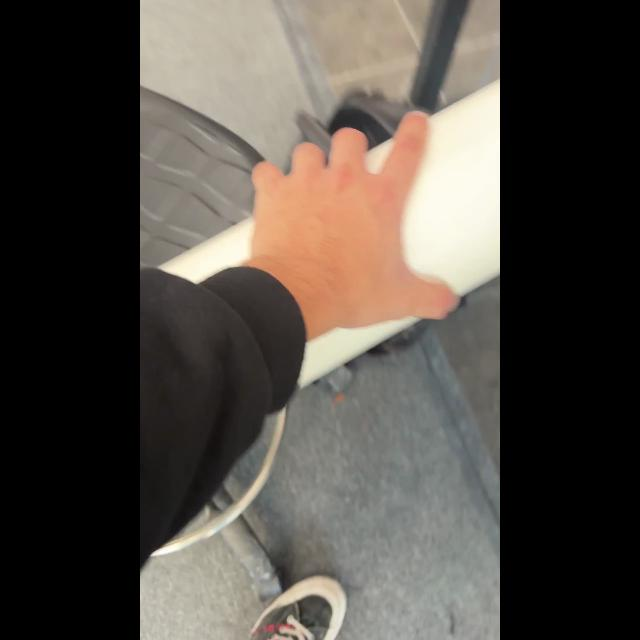CORAL: (157, 79, 499, 387)
